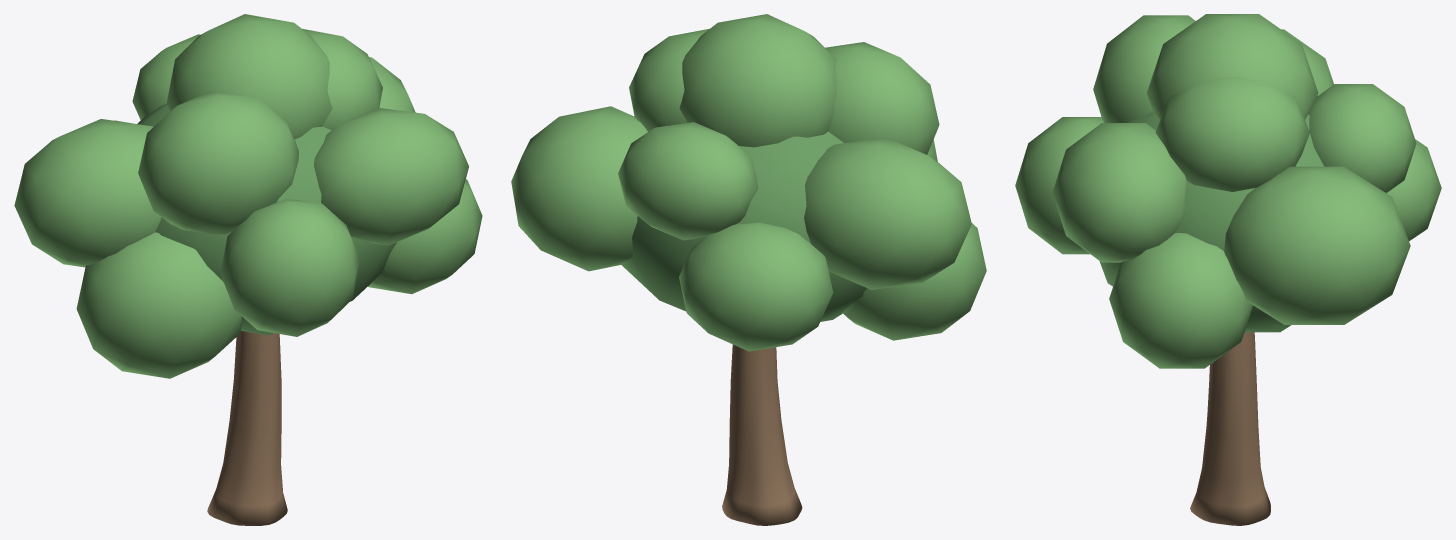
The model's file is pohon-blender-v1.glb.
3 renders of one model, left to right at view 1: azimuth 30°, elevation 25°; view 2: azimuth 150°, elevation 25°; view 3: azimuth 270°, elevation 25°, orthographic.
Visible parts, largest first — view 1: Pohon; view 2: Pohon; view 3: Pohon.
Boxes of the visible parts, box(x1,y1,x2,y2) form: Pohon: box(14, 14, 482, 525); Pohon: box(511, 14, 986, 525); Pohon: box(1015, 14, 1441, 525).
Size of the model in its own units: 2.52 by 2.88 by 2.27.
